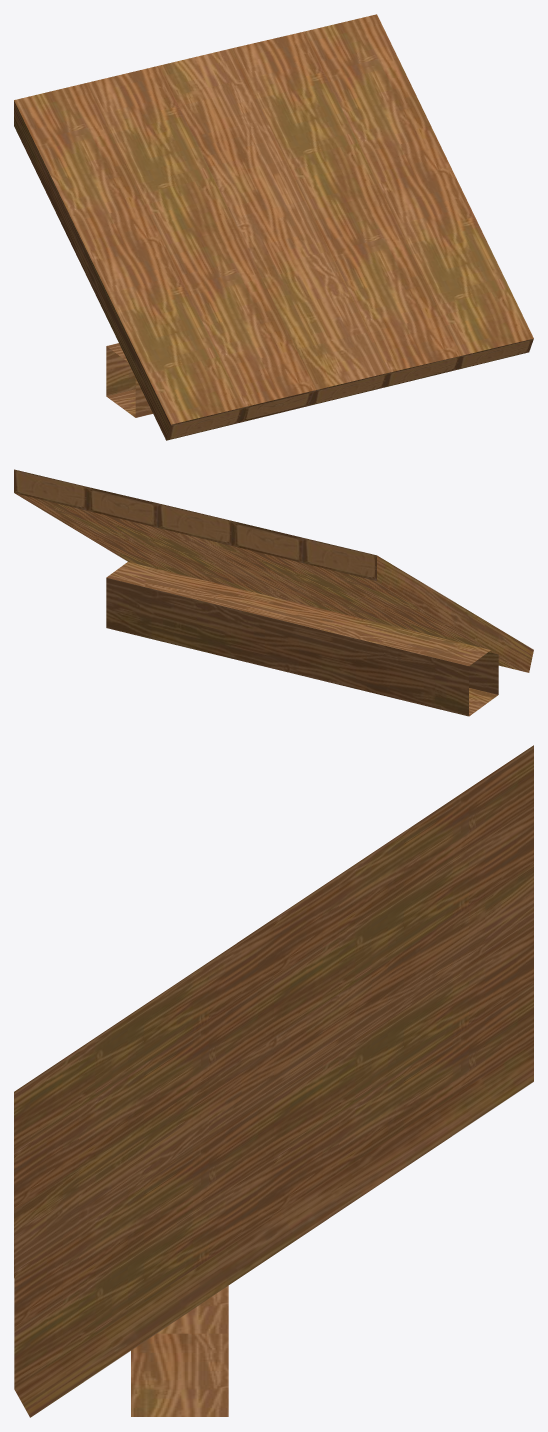
Rendered from roof-qm-roofwooden2x1center.glb.
The picture shows the model from 3 angles, top to bottom: view 1: azimuth 30°, elevation 25°; view 2: azimuth 150°, elevation 25°; view 3: azimuth 270°, elevation 25°; orthographic projection. The views are drawn at different scales.
Visible parts, largest first — view 1: Cube_050; view 2: Cube_050; view 3: Cube_050.
Part boxes in pixels (x1,y1,x2,y2): Cube_050: [14, 14, 533, 440]; Cube_050: [14, 469, 533, 716]; Cube_050: [14, 745, 533, 1417].
Size of the model in its own units: 2 by 1.21 by 1.5.
2 materials, 2 textured.
